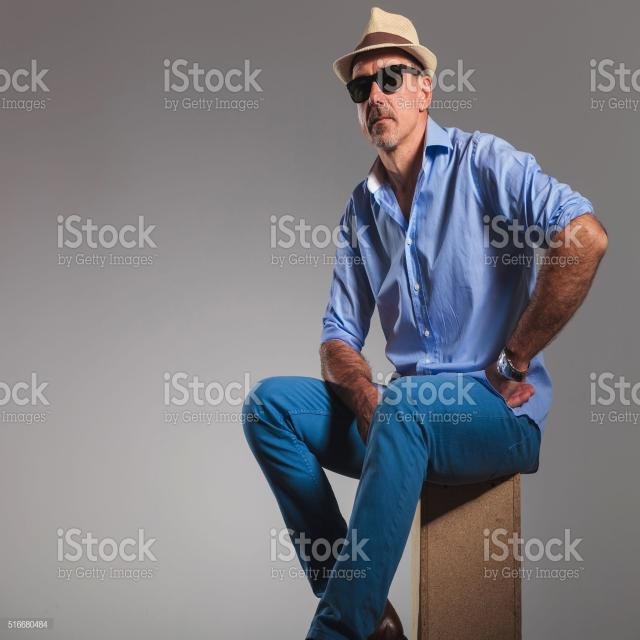hat: (336, 8, 440, 151)
